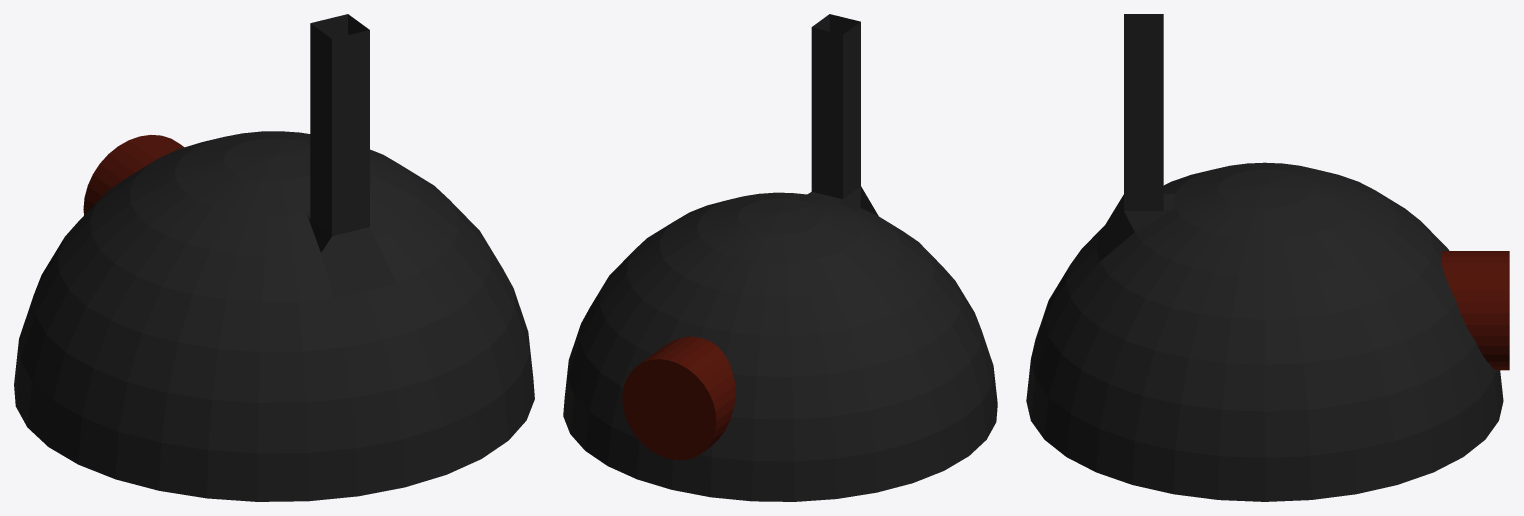
File: cave.glb
3 renders of one model, left to right at view 1: azimuth 30°, elevation 25°; view 2: azimuth 150°, elevation 25°; view 3: azimuth 270°, elevation 25°, orthographic. The views are drawn at different scales.
Parts seen in each view (by area): view 1: Cube, Cylinder; view 2: Cube, Cylinder; view 3: Cube, Cylinder.
Boxes of the visible parts, bbox=[...] form: Cube: bbox=[14, 14, 534, 501]; Cylinder: bbox=[83, 135, 184, 214]; Cube: bbox=[563, 14, 997, 501]; Cylinder: bbox=[622, 336, 735, 460]; Cube: bbox=[1026, 14, 1503, 501]; Cylinder: bbox=[1441, 251, 1509, 370].
Size of the model in its own units: 60 by 52.5 by 60.77.
